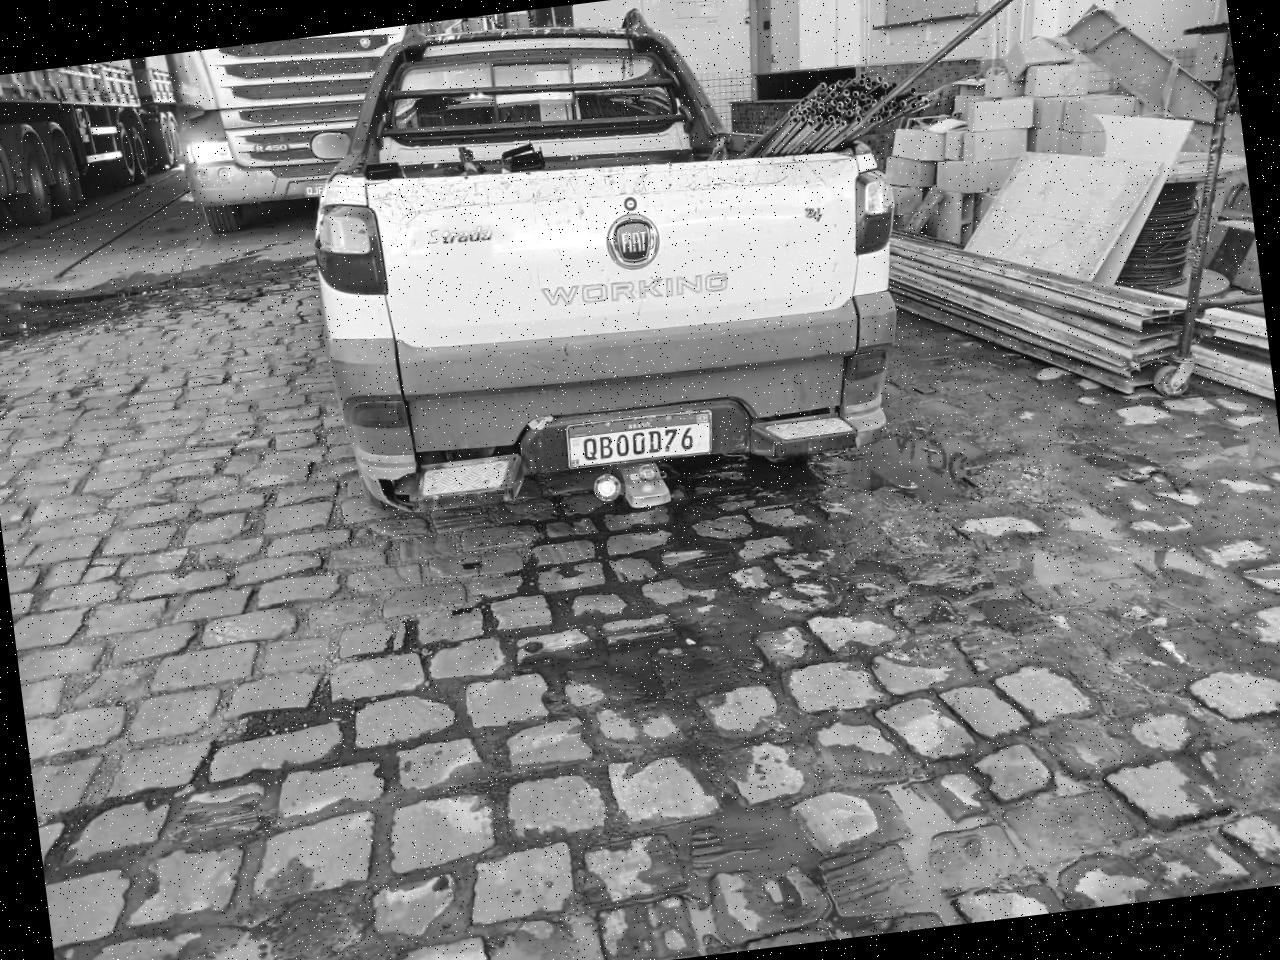placa_mercosul: (565, 410, 712, 468)
